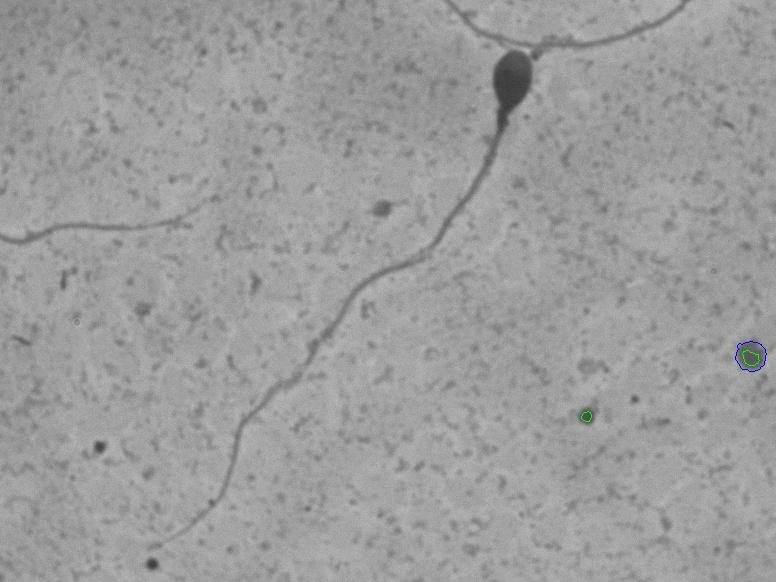Normal: (139, 42, 557, 574)
